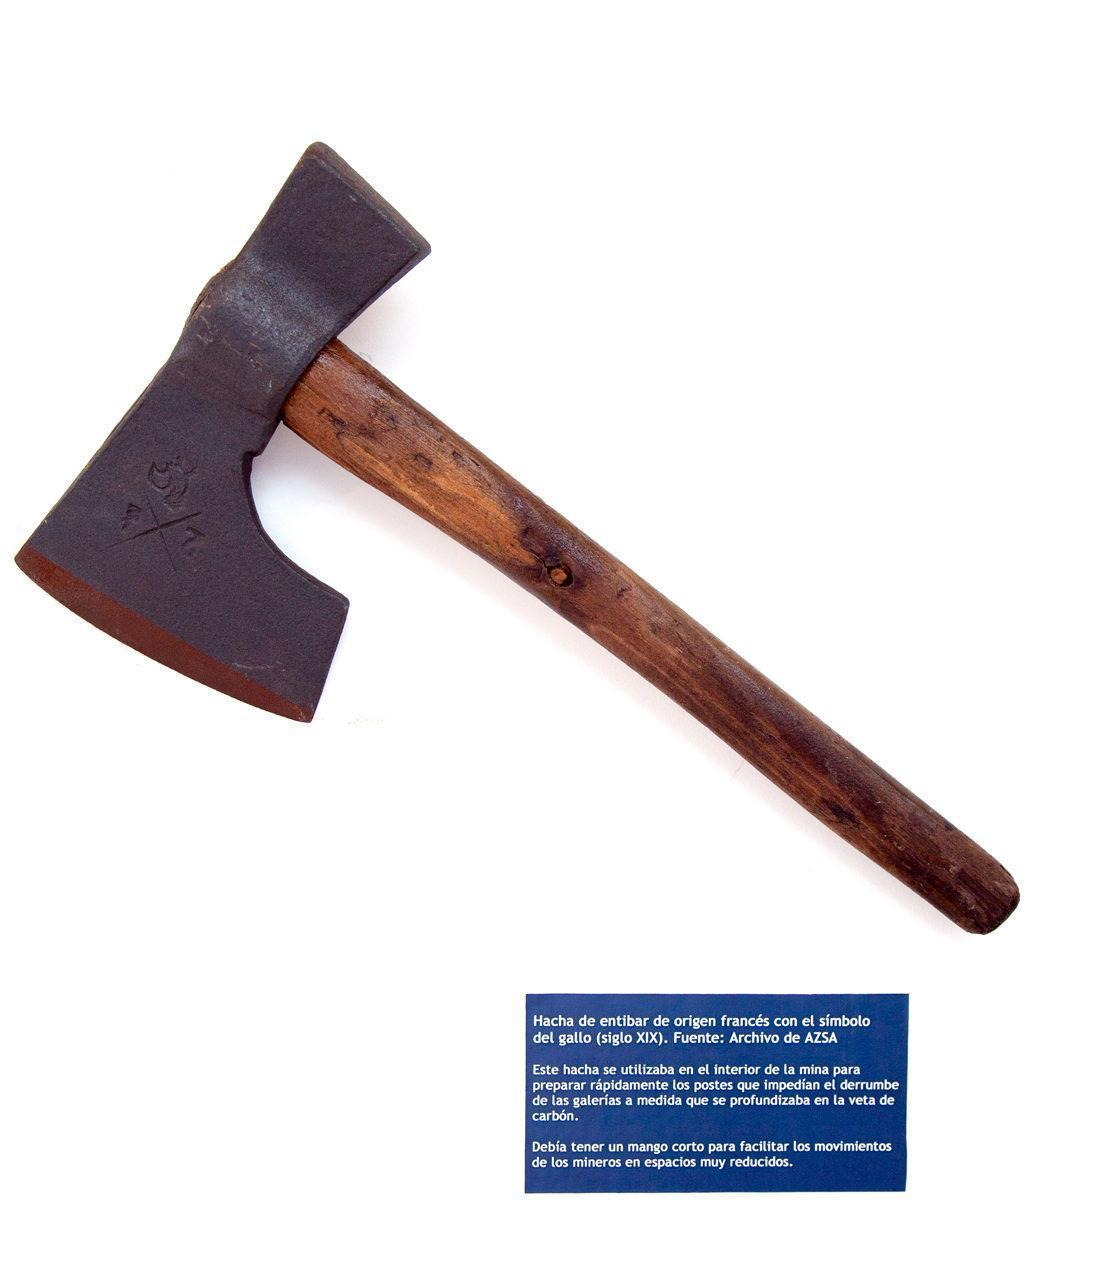machado: (16, 144, 1019, 933)
